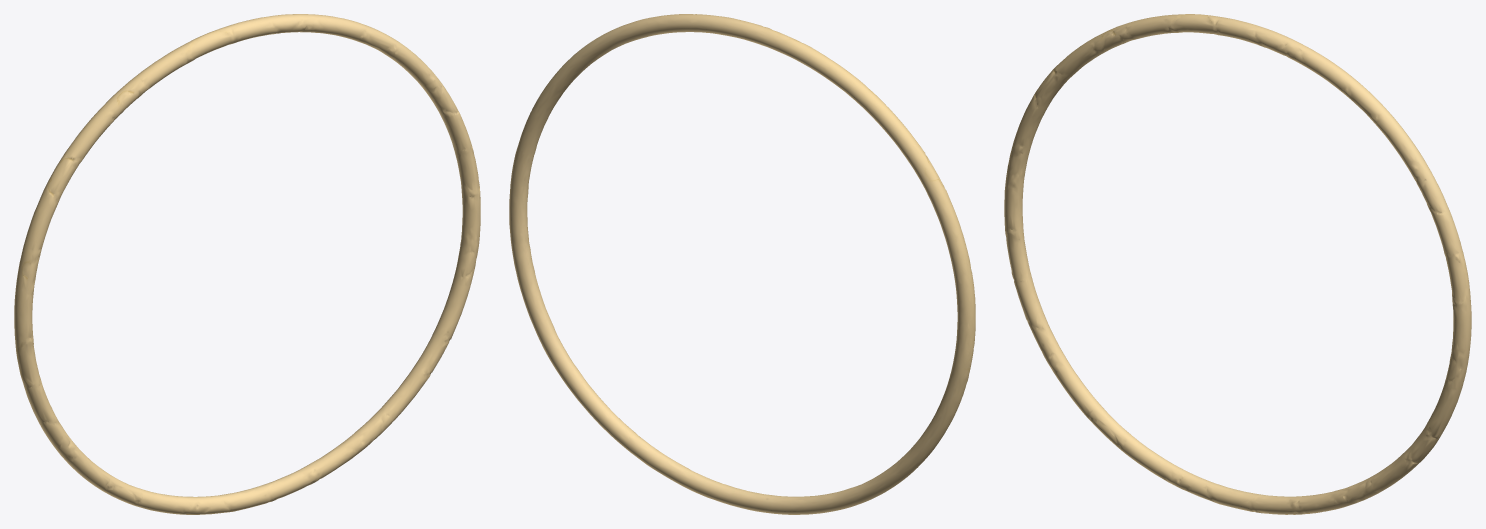
Rendered from ring_gold_game.glb.
3 views of the same model, side by side, from view 1: azimuth 30°, elevation 25°; view 2: azimuth 150°, elevation 25°; view 3: azimuth 330°, elevation 25° (orthographic).
Parts seen in each view (by area): view 1: Mesh_0; view 2: Mesh_0; view 3: Mesh_0.
Boxes of the visible parts, <box> form: Mesh_0: <box>14,14,480,514</box>; Mesh_0: <box>509,14,975,514</box>; Mesh_0: <box>1004,14,1471,514</box>.
Size of the model in its own units: 2.07 by 2.07 by 0.0749.
1 material, 1 textured.
